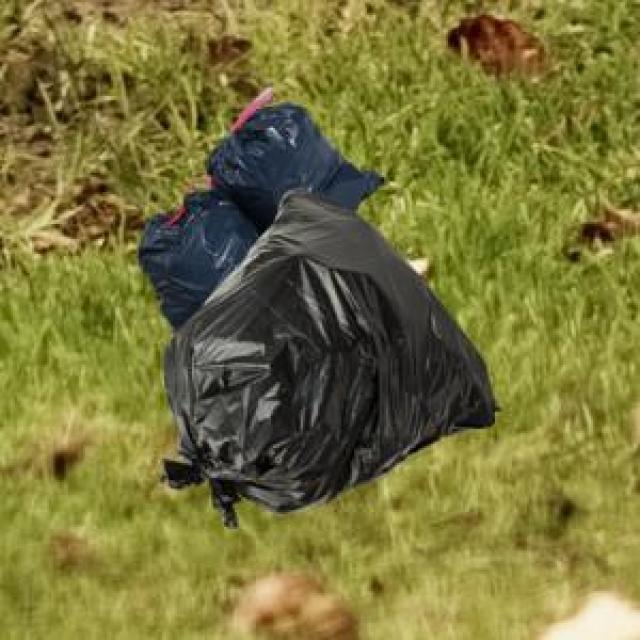miscellaneous trash: (156, 184, 495, 523), (134, 83, 380, 331)
